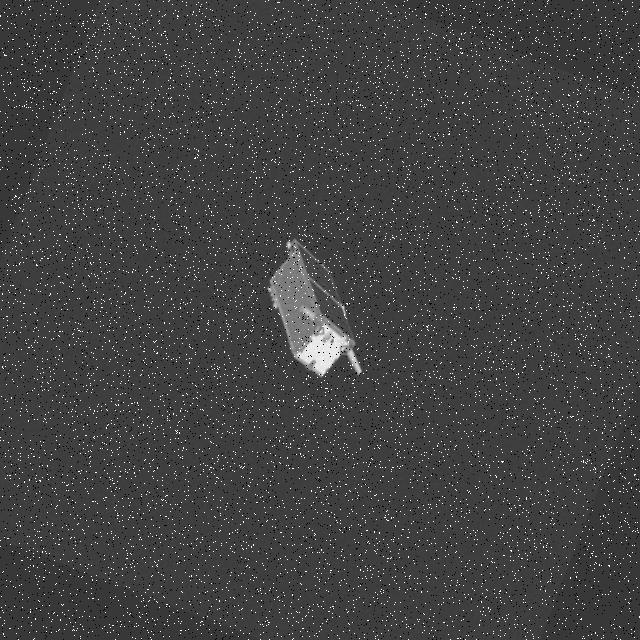satellite: (268, 234, 368, 398)
